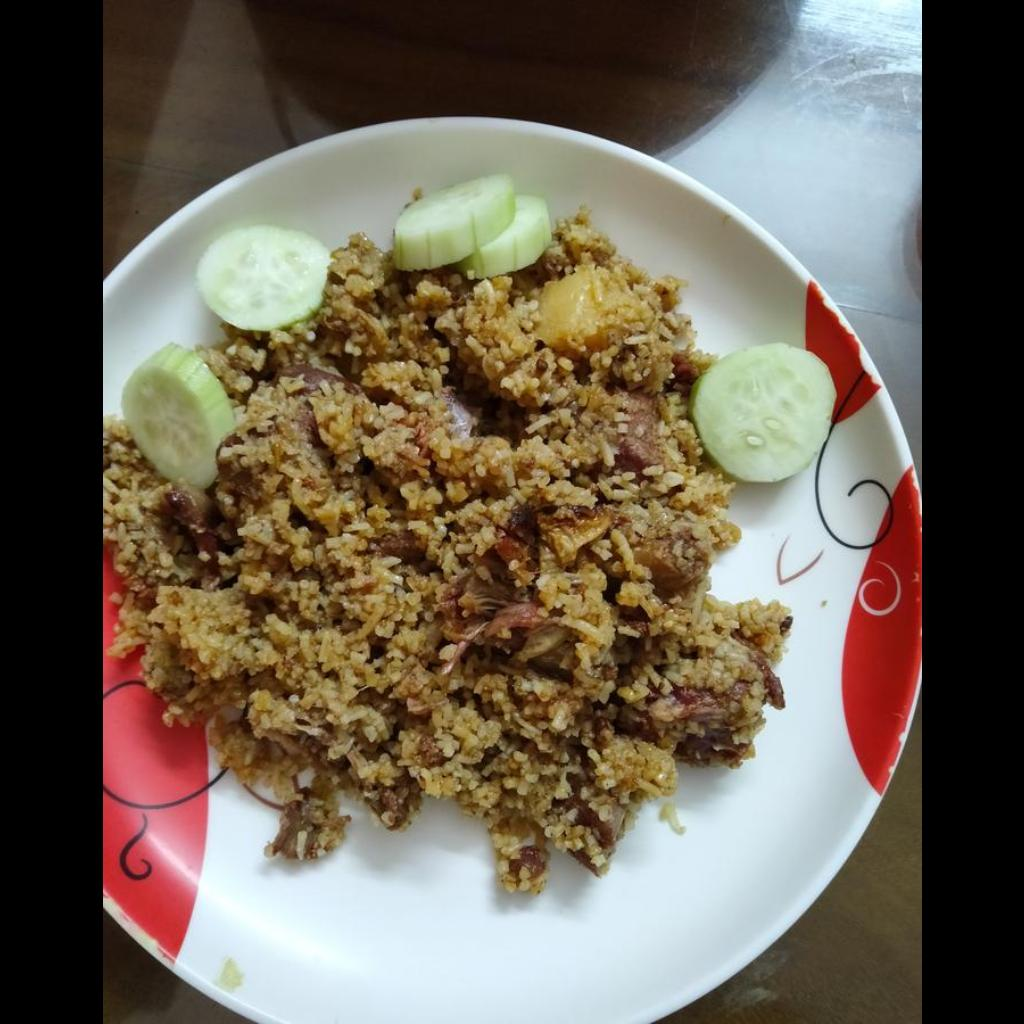biriyani: (102, 178, 842, 896)
